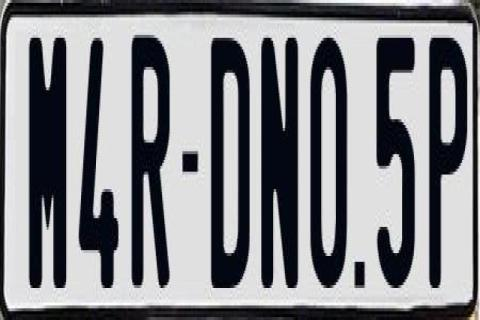0: (78, 35, 119, 294), (376, 32, 416, 288), (310, 32, 348, 285)
D: (210, 29, 254, 279)
M: (27, 29, 65, 294)
N: (260, 32, 302, 282)
P: (428, 38, 462, 291)
R: (131, 27, 175, 297)
